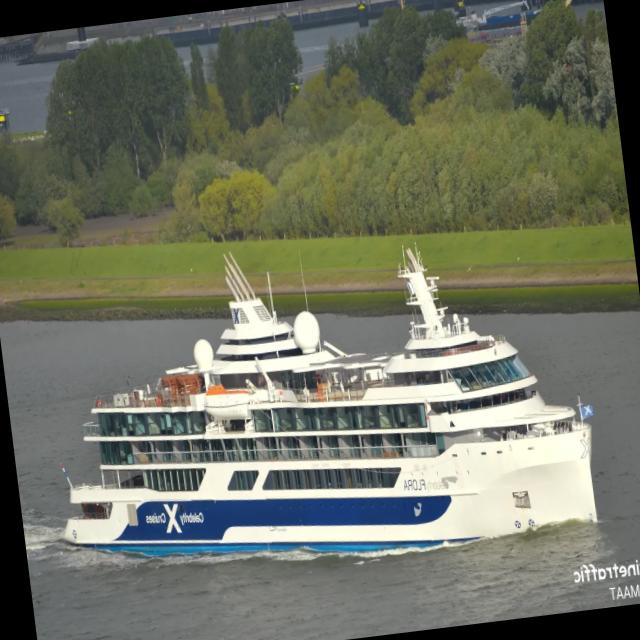Cruise: (65, 248, 596, 556)
